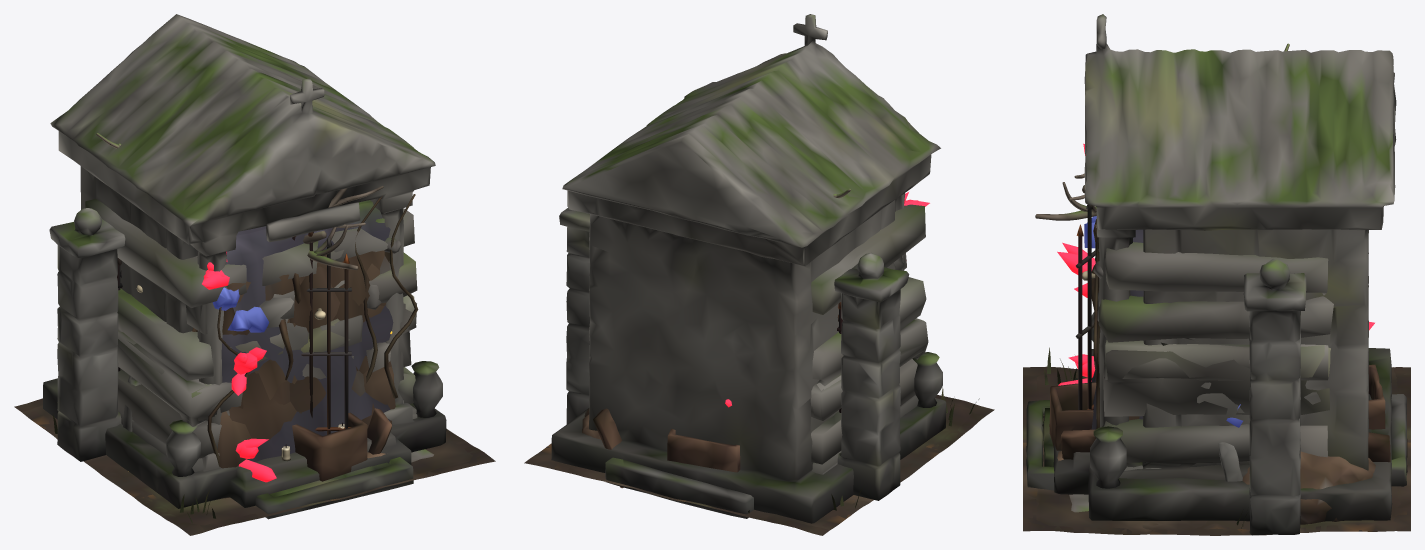
Rendered from bioma_cementerio.glb.
The picture shows the model from 3 angles, left to right: view 1: azimuth 30°, elevation 25°; view 2: azimuth 150°, elevation 25°; view 3: azimuth 270°, elevation 25°; orthographic projection. The views are drawn at different scales.
Visible parts, largest first — view 1: deco_mausoleo_malla, pared_dura_b_malla, deco_reja_malla, pared_dura_a_malla, pared_borde_malla, pared_blanda_a_malla, veta_hierro_malla, deco_tumba_losa_malla, deco_ataud_malla, veta_sangre_malla, piso_a_malla, piso_d_malla (+5 smaller); view 2: deco_mausoleo_malla, deco_reja_malla, pared_dura_b_malla, pared_dura_a_malla, deco_tumba_losa_malla, deco_ataud_malla, piso_d_malla, piso_a_malla, piso_b_malla, piso_c_malla; view 3: deco_mausoleo_malla, pared_dura_a_malla, deco_reja_malla, pared_dura_b_malla, deco_ataud_malla, piso_d_malla, deco_tumba_losa_malla, deco_fosa_malla, piso_a_malla, piso_b_malla, piso_c_malla, veta_sangre_malla (+2 smaller).
Boxes of the visible parts, x1=… form: deco_mausoleo_malla: x1=43, y1=14, x2=446, y2=523; pared_dura_b_malla: x1=117, y1=194, x2=418, y2=466; deco_reja_malla: x1=49, y1=208, x2=125, y2=461; pared_dura_a_malla: x1=85, y1=196, x2=417, y2=472; pared_borde_malla: x1=221, y1=200, x2=393, y2=461; pared_blanda_a_malla: x1=192, y1=238, x2=401, y2=468; veta_hierro_malla: x1=212, y1=262, x2=392, y2=498; deco_tumba_losa_malla: x1=255, y1=457, x2=413, y2=519; deco_ataud_malla: x1=292, y1=408, x2=391, y2=481; veta_sangre_malla: x1=202, y1=250, x2=384, y2=482; piso_a_malla: x1=14, y1=403, x2=495, y2=535; piso_d_malla: x1=15, y1=398, x2=491, y2=534; deco_mausoleo_malla: x1=551, y1=14, x2=979, y2=523; deco_reja_malla: x1=559, y1=208, x2=909, y2=500; pared_dura_b_malla: x1=811, y1=277, x2=928, y2=474; pared_dura_a_malla: x1=810, y1=204, x2=925, y2=474; deco_tumba_losa_malla: x1=605, y1=457, x2=753, y2=518; deco_ataud_malla: x1=593, y1=408, x2=740, y2=488; piso_d_malla: x1=524, y1=395, x2=986, y2=535; piso_a_malla: x1=524, y1=397, x2=994, y2=535; piso_b_malla: x1=535, y1=405, x2=980, y2=530; piso_c_malla: x1=536, y1=395, x2=990, y2=528; deco_mausoleo_malla: x1=1044, y1=14, x2=1396, y2=528; pared_dura_a_malla: x1=1097, y1=242, x2=1333, y2=470; deco_reja_malla: x1=1243, y1=259, x2=1306, y2=535; pared_dura_b_malla: x1=1093, y1=224, x2=1328, y2=479; deco_ataud_malla: x1=1049, y1=364, x2=1390, y2=462; piso_d_malla: x1=1023, y1=366, x2=1410, y2=535; deco_tumba_losa_malla: x1=1026, y1=394, x2=1407, y2=490; deco_fosa_malla: x1=1057, y1=451, x2=1375, y2=524; piso_a_malla: x1=1023, y1=367, x2=1410, y2=535; piso_b_malla: x1=1023, y1=368, x2=1410, y2=535; piso_c_malla: x1=1023, y1=367, x2=1410, y2=535; veta_sangre_malla: x1=1057, y1=143, x2=1374, y2=385.
Size of the model in its own units: 2.17 by 2.65 by 2.
